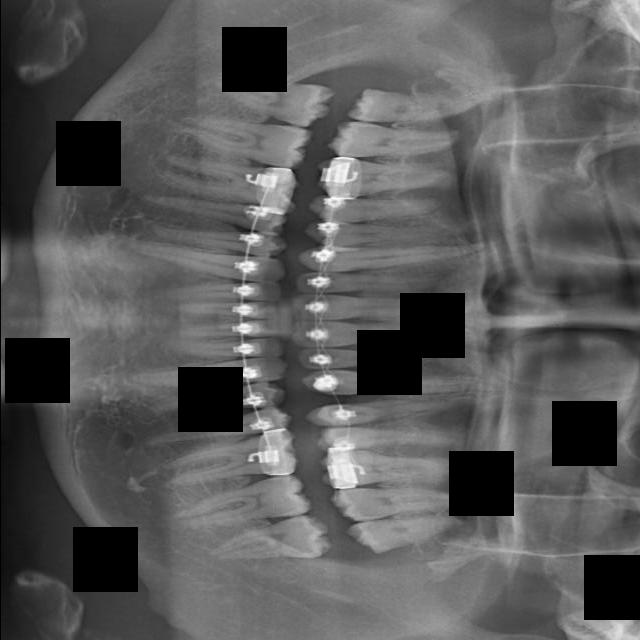3M ESPE Implant: (346, 88, 493, 122)
AGS Medikal Implant: (294, 346, 454, 370)
AMerOss Implant: (298, 369, 499, 396)
Amalgam filling: (304, 395, 459, 430)
Anthogyr Implant: (312, 420, 458, 454)
Bicon Implant: (399, 466, 437, 472)
BioHorizons Implant: (405, 498, 445, 501)
BioLife Implant: (343, 510, 468, 558)
Biomet 3i Implant: (220, 555, 221, 555)
Blue Sky Bio Implant: (171, 472, 314, 530)
Camlog Implant: (156, 427, 299, 489)
Caries: (453, 137, 454, 137)
Composite filling: (139, 404, 292, 452)
Cowellmedi Implant: (134, 380, 287, 420)
Crown: (122, 355, 292, 391)
DENTSPLY Implant: (164, 337, 283, 359)
Dentatus Implant: (177, 319, 282, 342)
Dentis Implant: (169, 301, 281, 319)
Dentium Implant: (167, 282, 282, 301)
Euroteknika Implant: (121, 239, 287, 285)
Filling: (146, 214, 289, 261)
Frontier Implant: (136, 175, 291, 239)
Hiossen Implant: (430, 171, 431, 171)
Implant: (174, 112, 314, 171)
Implant Direct: (154, 139, 306, 216)
Keystone Dental Implant: (203, 69, 337, 129)
MIS Implant: (307, 195, 446, 224)
Mandible: (301, 220, 442, 251)
Maxilla: (292, 241, 491, 274)
Megagen Implant: (295, 273, 455, 294)
Neodent Implant: (287, 294, 462, 319)
Neoss Implant: (288, 320, 458, 348)
